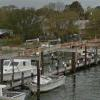Boat: (5, 48, 66, 92)
